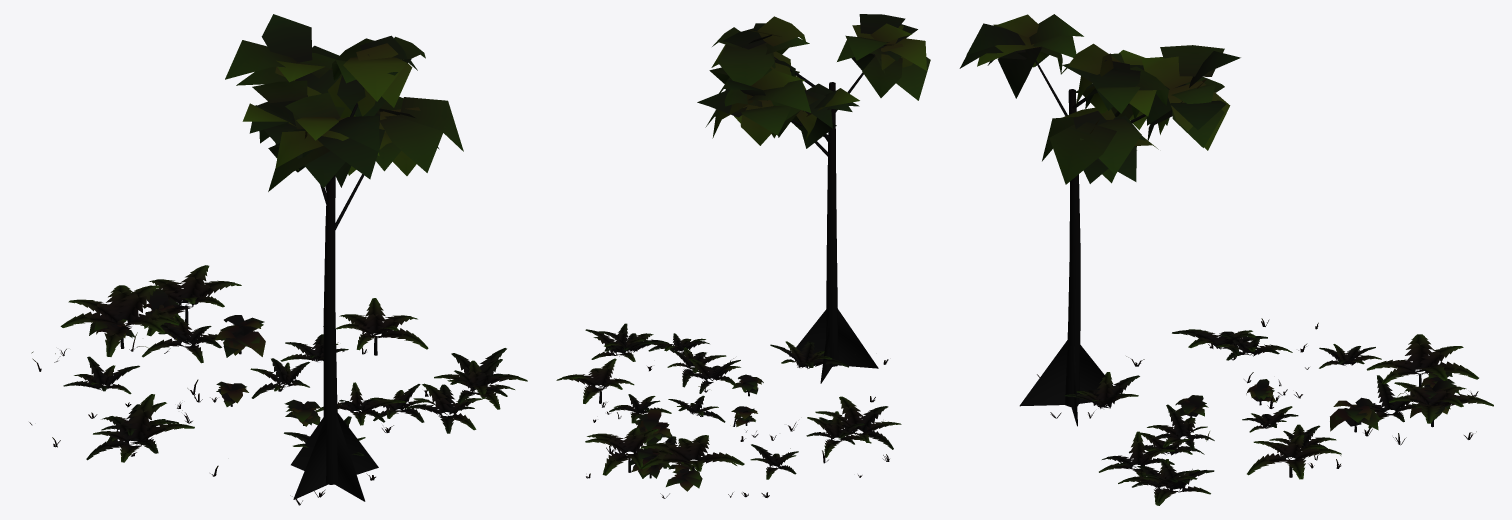
Rendered from patch_scrub.glb.
3 views of the same model, side by side, from view 1: azimuth 30°, elevation 25°; view 2: azimuth 150°, elevation 25°; view 3: azimuth 270°, elevation 25° (orthographic). The views are drawn at different scales.
Parts seen in each view (by area): view 1: patch_scrub; view 2: patch_scrub; view 3: patch_scrub.
Boxes of the visible parts, left/top/right/bottom form: patch_scrub: left=29, top=14, right=527, bottom=505; patch_scrub: left=556, top=14, right=930, bottom=498; patch_scrub: left=959, top=14, right=1493, bottom=505.
Bounding box in the file's own units: 12.09 × 10.85 × 14.17.
1 material, 1 textured.
